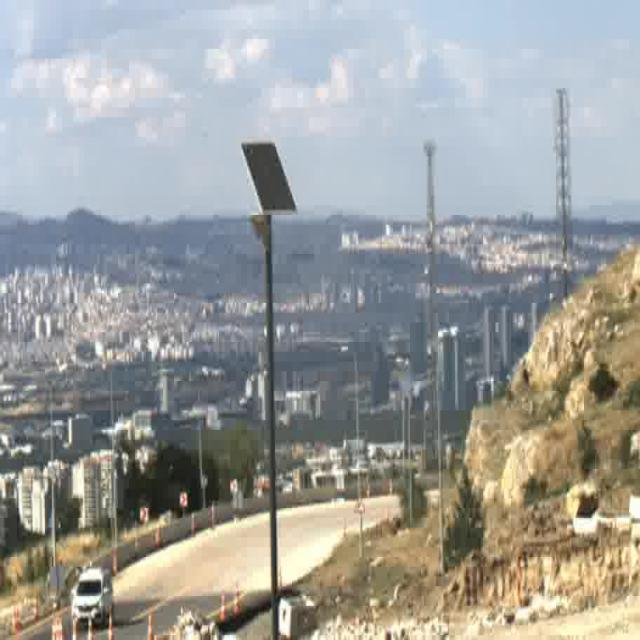Car: (70, 563, 114, 621)
